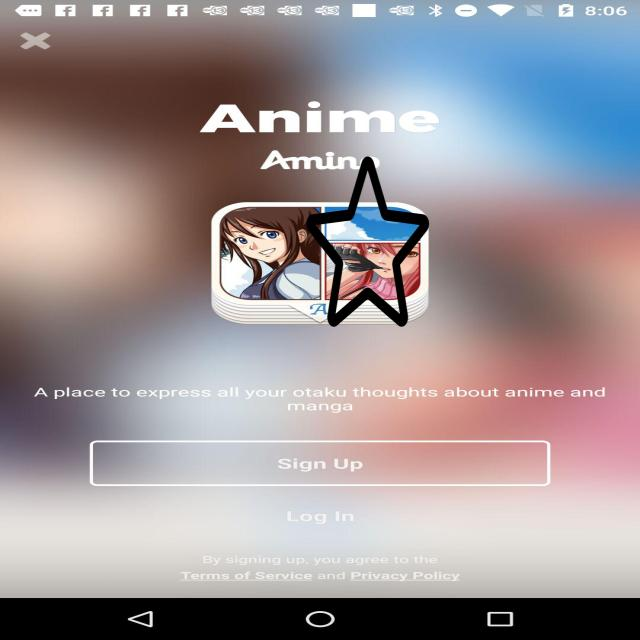forced continuity: (306, 153, 429, 330)
